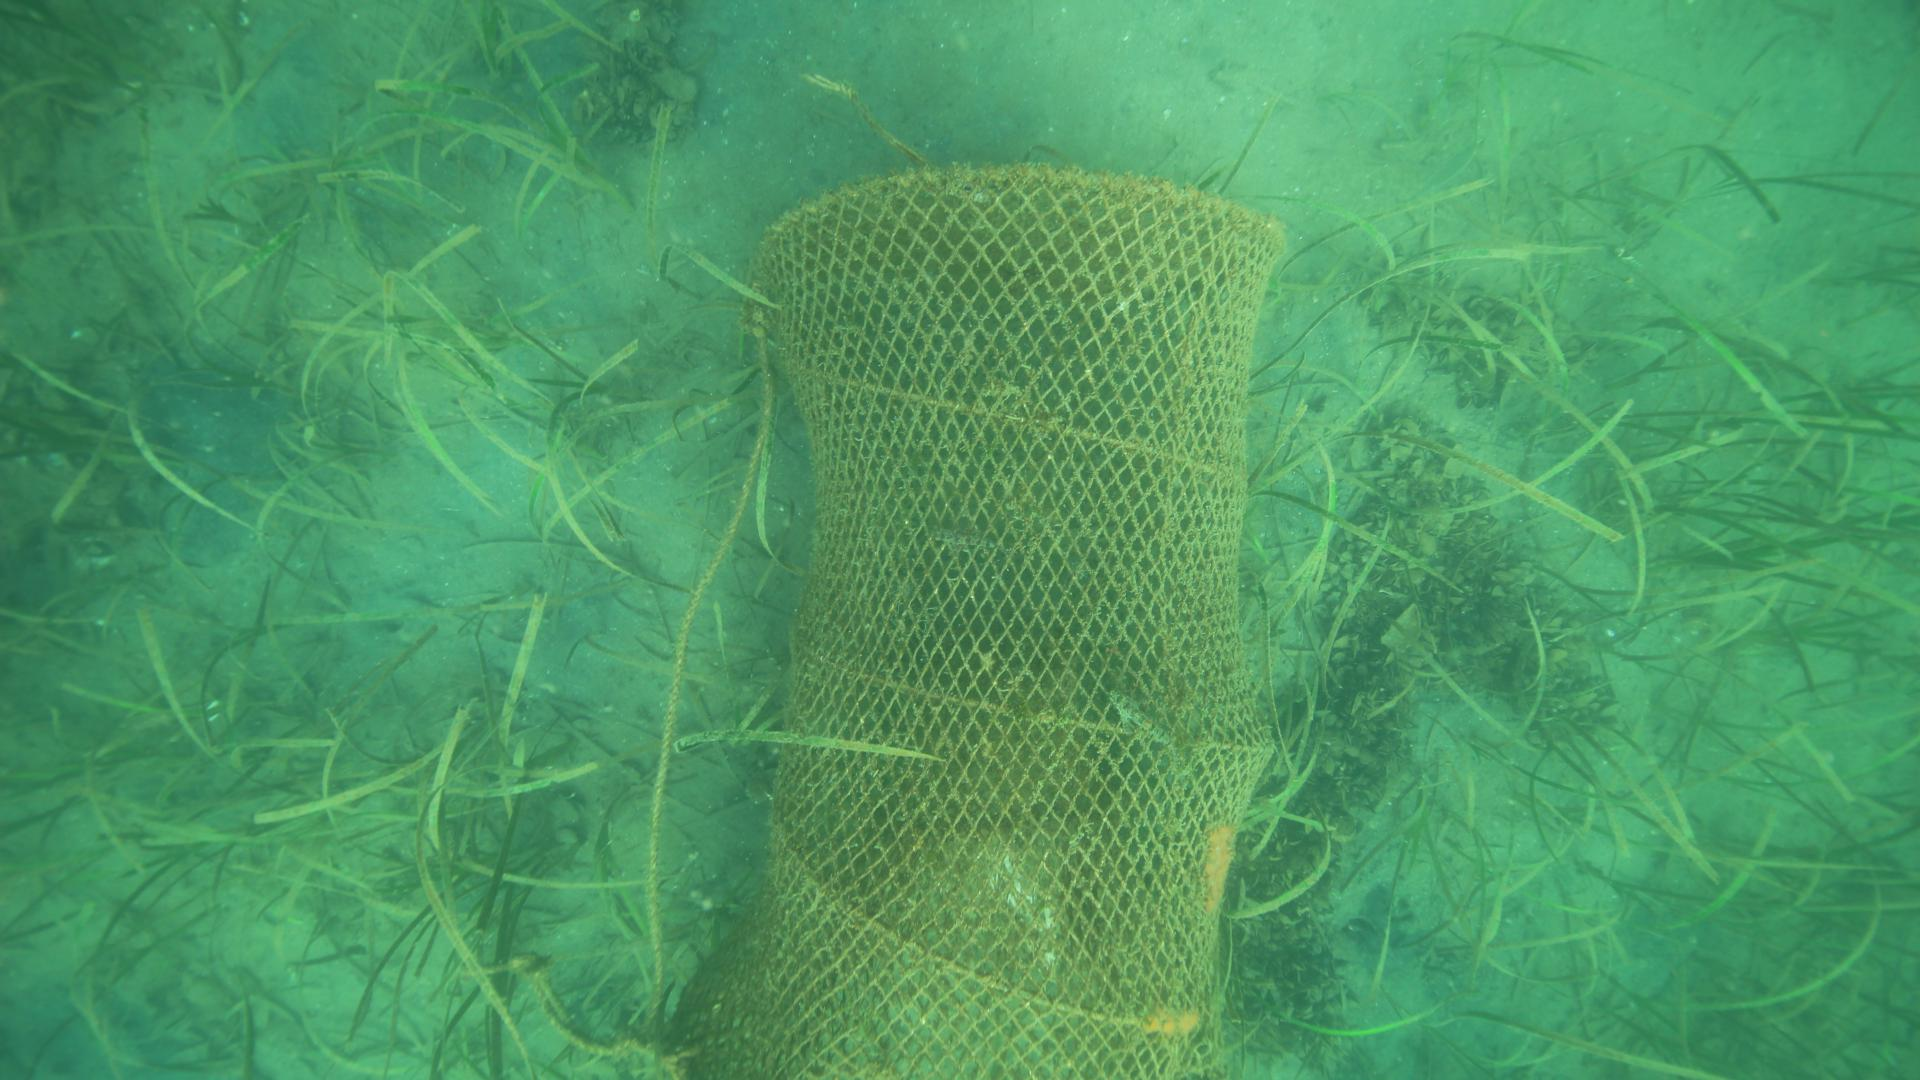spring fish trap: (715, 164, 1290, 1080)
